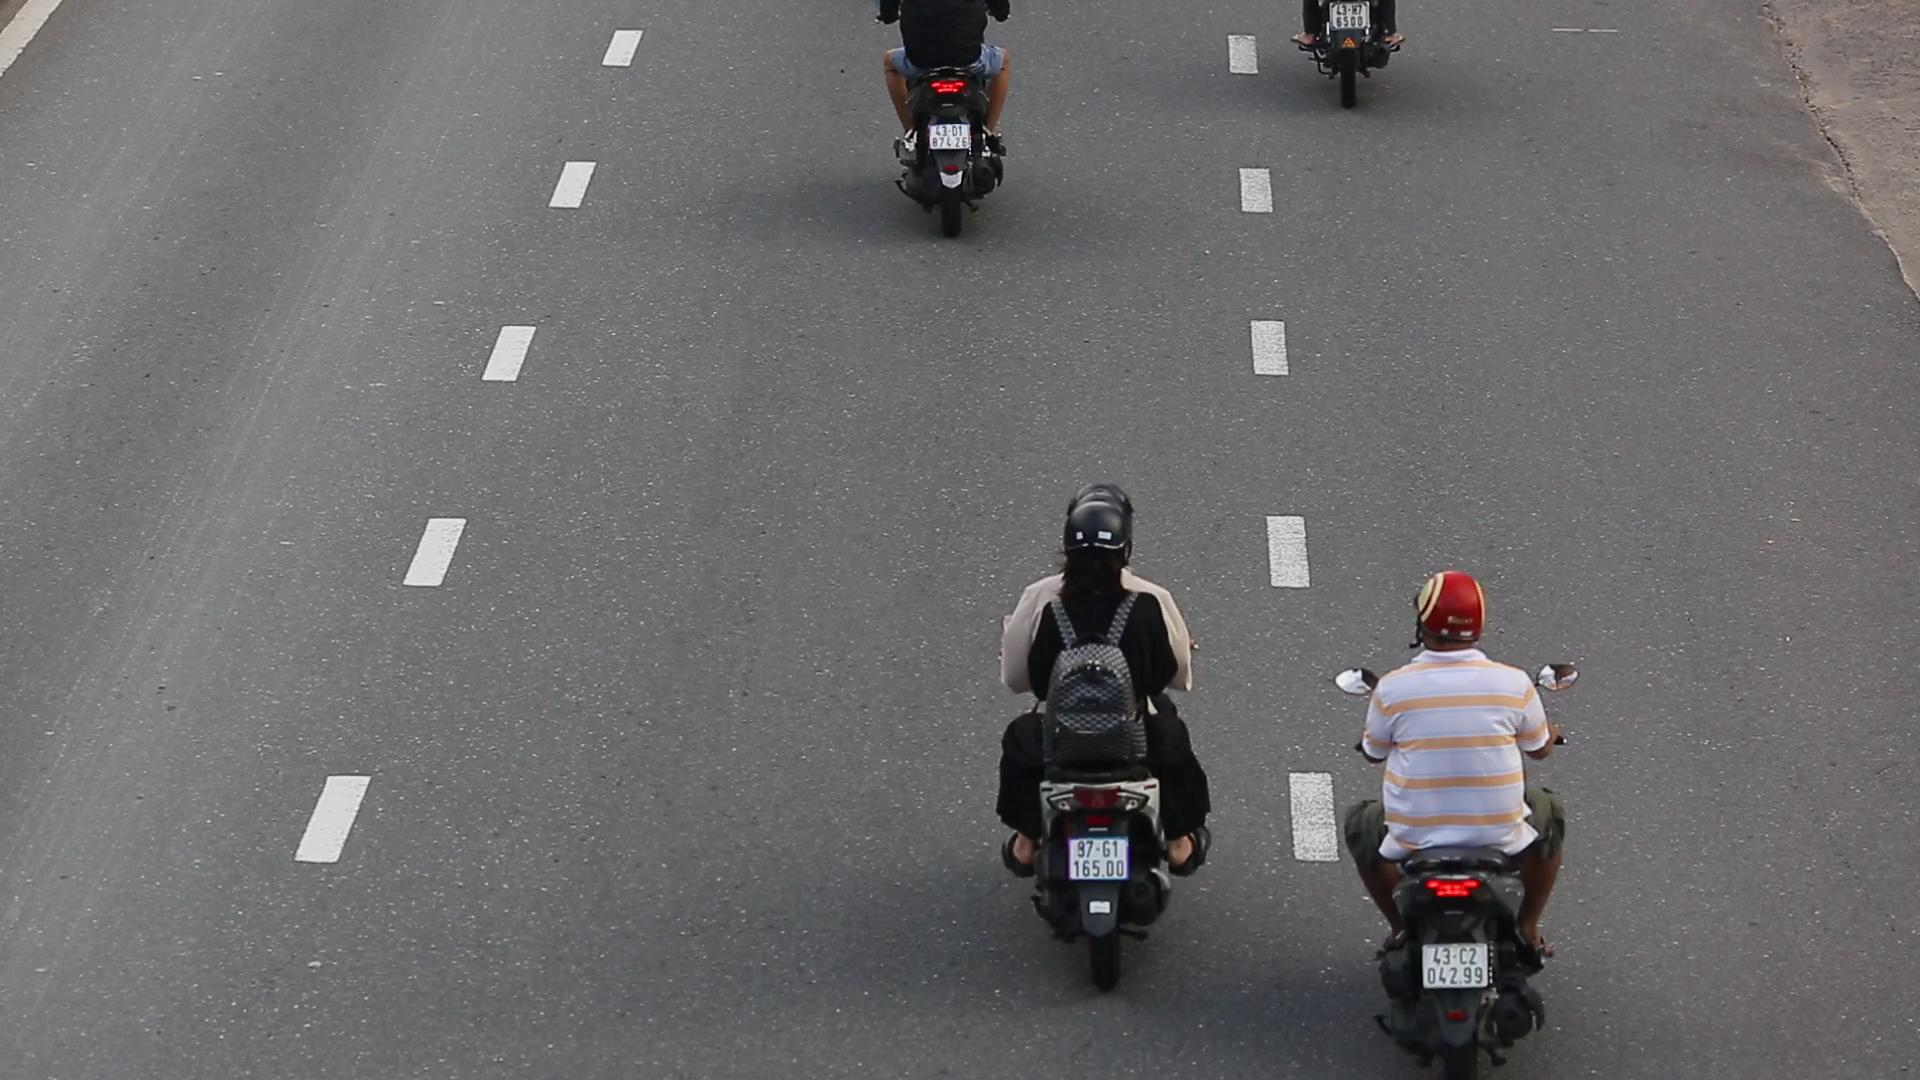motobike: (1335, 566, 1590, 1080), (984, 477, 1226, 994)
